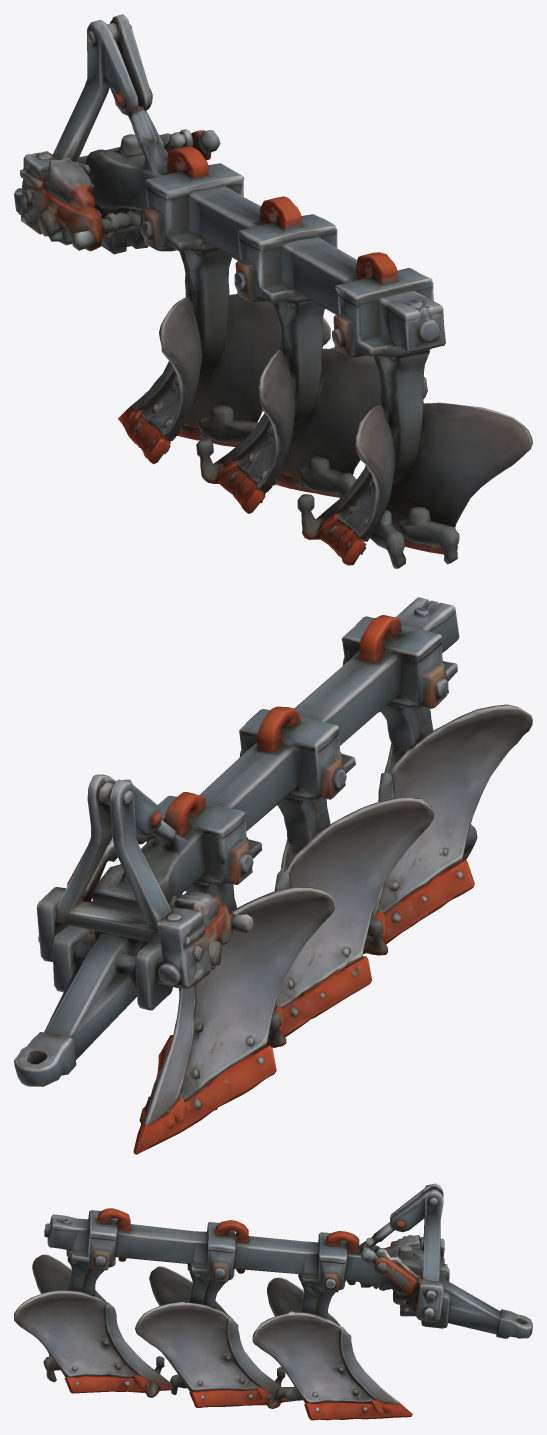
File: tractor_plough.glb
3 views of the same model, one above another, from view 1: azimuth 30°, elevation 25°; view 2: azimuth 150°, elevation 25°; view 3: azimuth 270°, elevation 25° (orthographic). The views are drawn at different scales.
Visible parts, largest first — view 1: tripo_node_6b5409a4-89d2-4216-a508-83d30fb00440; view 2: tripo_node_6b5409a4-89d2-4216-a508-83d30fb00440; view 3: tripo_node_6b5409a4-89d2-4216-a508-83d30fb00440.
Boxes of the visible parts, <box> form: tripo_node_6b5409a4-89d2-4216-a508-83d30fb00440: <box>14,14,532,568</box>; tripo_node_6b5409a4-89d2-4216-a508-83d30fb00440: <box>14,597,532,1154</box>; tripo_node_6b5409a4-89d2-4216-a508-83d30fb00440: <box>14,1183,532,1420</box>.
Size of the model in its own units: 0.2089 by 0.4811 by 0.9796.
1 material, 1 textured.
